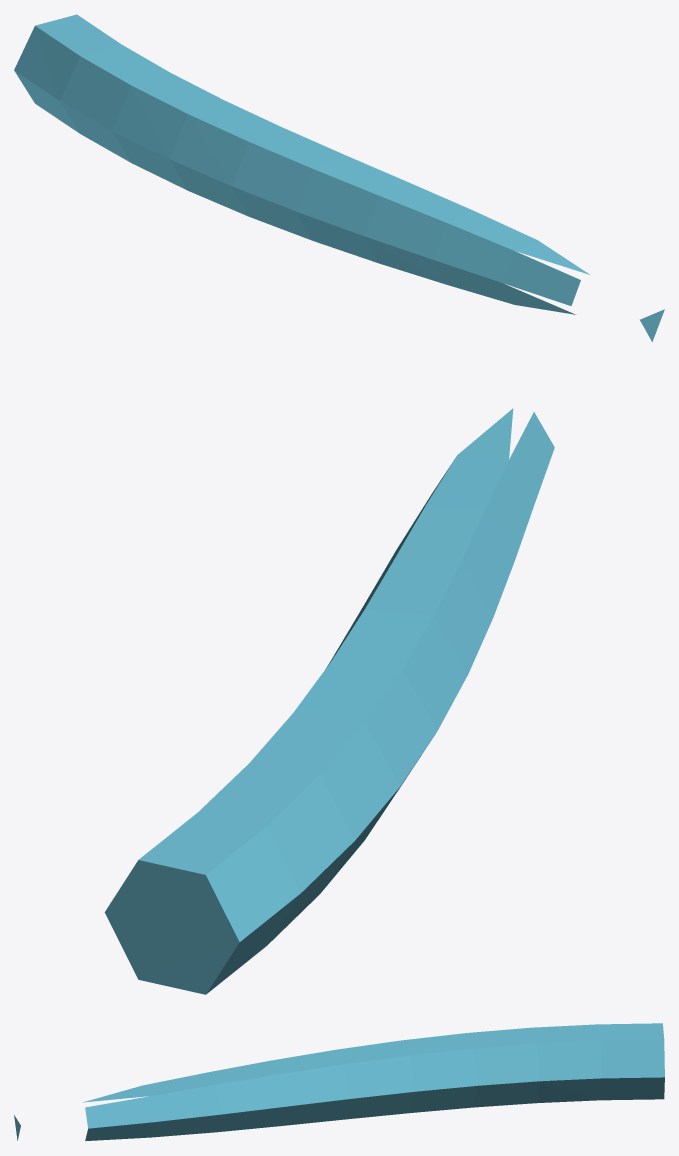
The model's file is blade-cutlass.lod.glb.
The picture shows the model from 3 angles, top to bottom: view 1: azimuth 30°, elevation 25°; view 2: azimuth 150°, elevation 25°; view 3: azimuth 270°, elevation 25°; orthographic projection. The views are drawn at different scales.
Parts seen in each view (by area): view 1: m; view 2: m; view 3: m.
Boxes of the visible parts, x1,y1,x2,y2 form: m: (14, 14, 664, 341); m: (104, 408, 554, 994); m: (14, 1023, 664, 1141).
Size of the model in its own units: 0.0593 by 0.0189 by 0.1861.
